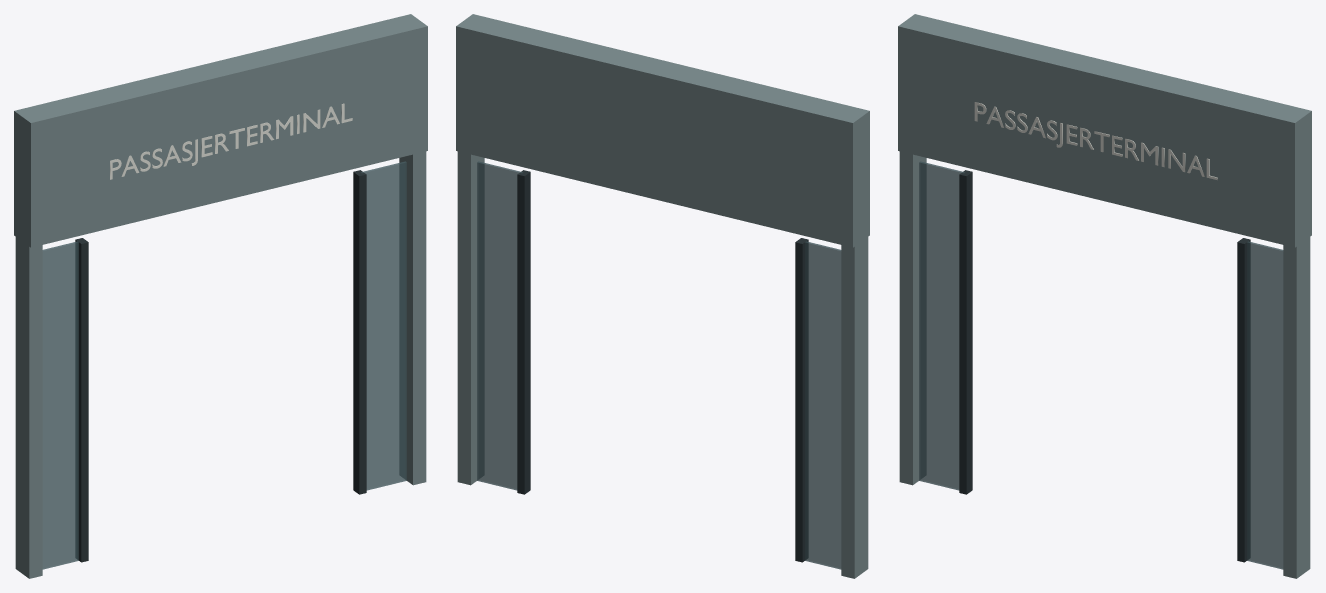
The model's file is terminal_entry_3m.glb.
3 renders of one model, left to right at view 1: azimuth 30°, elevation 25°; view 2: azimuth 150°, elevation 25°; view 3: azimuth 330°, elevation 25°, orthographic.
Visible parts, largest first — view 1: terminal_entry_3m__Deep petrol painted steel, terminal_entry_3m__Optical ferry glass, terminal_entry_3m__Fixed_BlackHousing, terminal_entry_3m__Warm white painted steel; view 2: terminal_entry_3m__Deep petrol painted steel, terminal_entry_3m__Optical ferry glass, terminal_entry_3m__Fixed_BlackHousing; view 3: terminal_entry_3m__Deep petrol painted steel, terminal_entry_3m__Optical ferry glass, terminal_entry_3m__Fixed_BlackHousing, terminal_entry_3m__Warm white painted steel.
Part boxes in pixels (bbox=[...]): terminal_entry_3m__Deep petrol painted steel: bbox=[14, 14, 427, 578]; terminal_entry_3m__Optical ferry glass: bbox=[42, 161, 406, 569]; terminal_entry_3m__Fixed_BlackHousing: bbox=[75, 170, 366, 562]; terminal_entry_3m__Warm white painted steel: bbox=[110, 103, 352, 179]; terminal_entry_3m__Deep petrol painted steel: bbox=[456, 14, 869, 578]; terminal_entry_3m__Optical ferry glass: bbox=[477, 161, 841, 569]; terminal_entry_3m__Fixed_BlackHousing: bbox=[517, 170, 808, 562]; terminal_entry_3m__Deep petrol painted steel: bbox=[898, 14, 1311, 578]; terminal_entry_3m__Optical ferry glass: bbox=[919, 161, 1283, 569]; terminal_entry_3m__Fixed_BlackHousing: bbox=[959, 170, 1250, 562]; terminal_entry_3m__Warm white painted steel: bbox=[974, 102, 1217, 180].
Size of the model in its own units: 3 by 3.3 by 0.237.
